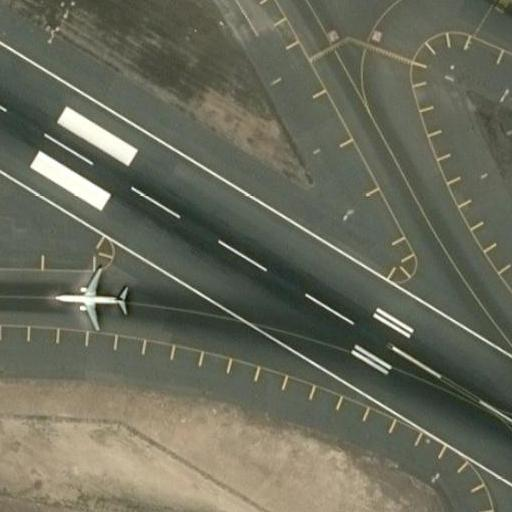Aircraft: (48, 259, 130, 334)
